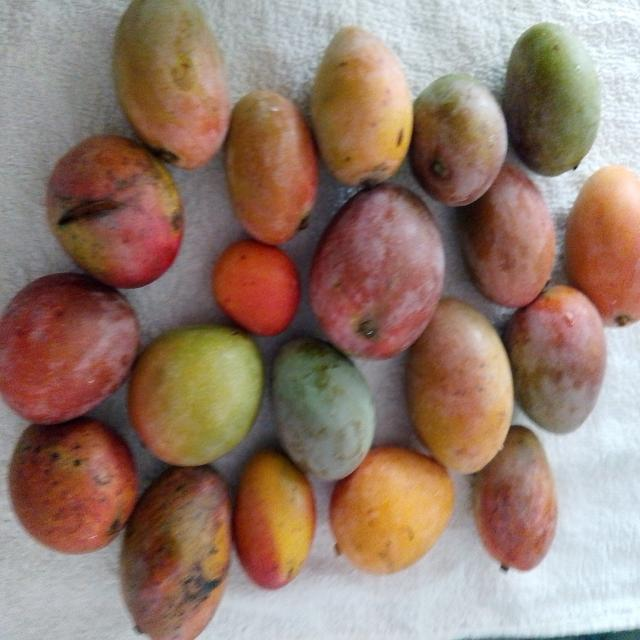mango: (310, 185, 444, 358), (0, 272, 144, 420), (47, 135, 182, 288), (113, 0, 230, 168), (120, 466, 231, 639), (129, 325, 263, 465), (407, 298, 513, 473), (8, 418, 137, 553), (311, 27, 412, 186), (330, 447, 454, 573), (505, 286, 606, 433), (503, 23, 600, 176), (272, 338, 375, 480), (226, 90, 318, 244), (459, 164, 555, 307), (409, 74, 507, 206), (473, 426, 557, 570), (565, 166, 639, 326), (234, 450, 315, 588), (205, 243, 302, 328)
